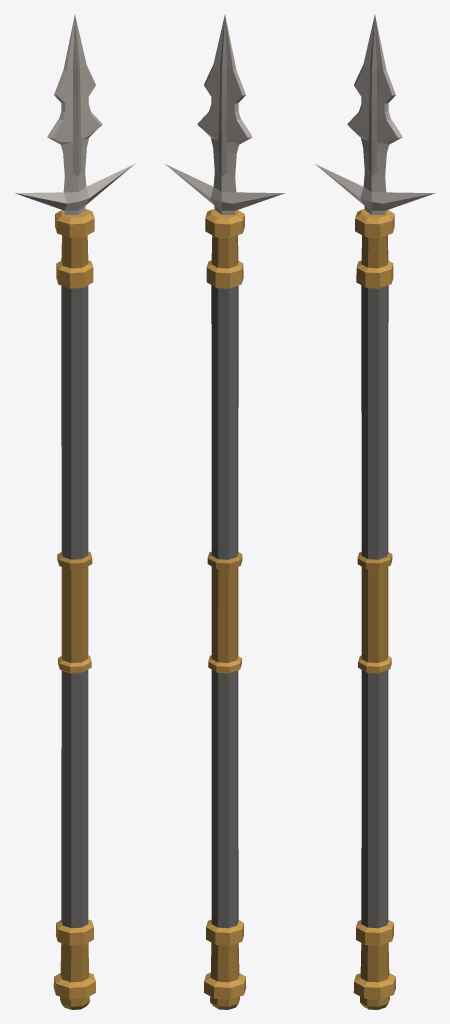
The model's file is SM_pwe_fantasy_spear_05.fbx.
The picture shows the model from 3 angles, left to right: view 1: azimuth 30°, elevation 25°; view 2: azimuth 150°, elevation 25°; view 3: azimuth 330°, elevation 25°; orthographic projection.
Parts seen in each view (by area): view 1: SM_pwe_fantasy_spear_05; view 2: SM_pwe_fantasy_spear_05; view 3: SM_pwe_fantasy_spear_05.
Part boxes in pixels (bbox=[...]): SM_pwe_fantasy_spear_05: bbox=[14, 15, 134, 1009]; SM_pwe_fantasy_spear_05: bbox=[165, 15, 285, 1009]; SM_pwe_fantasy_spear_05: bbox=[315, 15, 435, 1009].
Size of the model in its own units: 22.58 by 177 by 7.06.
